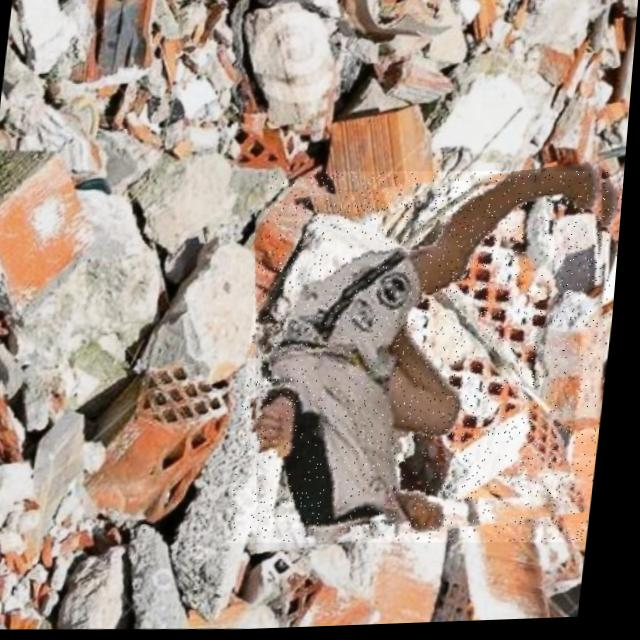Person in Rubble: (233, 163, 628, 557)
